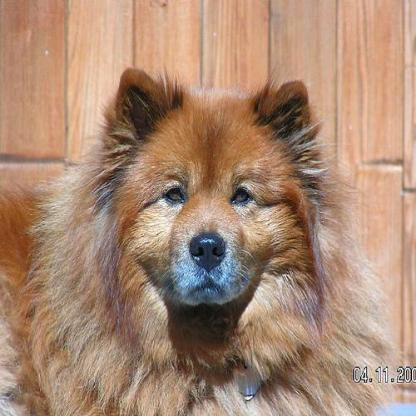chow: (0, 64, 414, 413)
